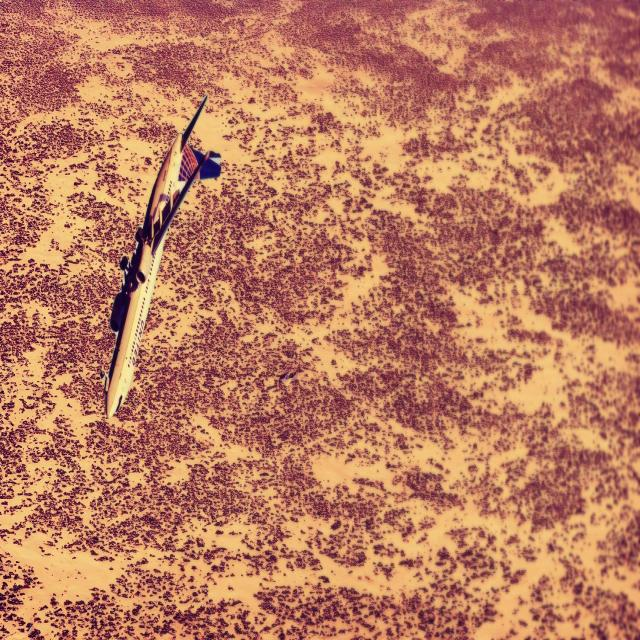airplane: (100, 92, 222, 419)
